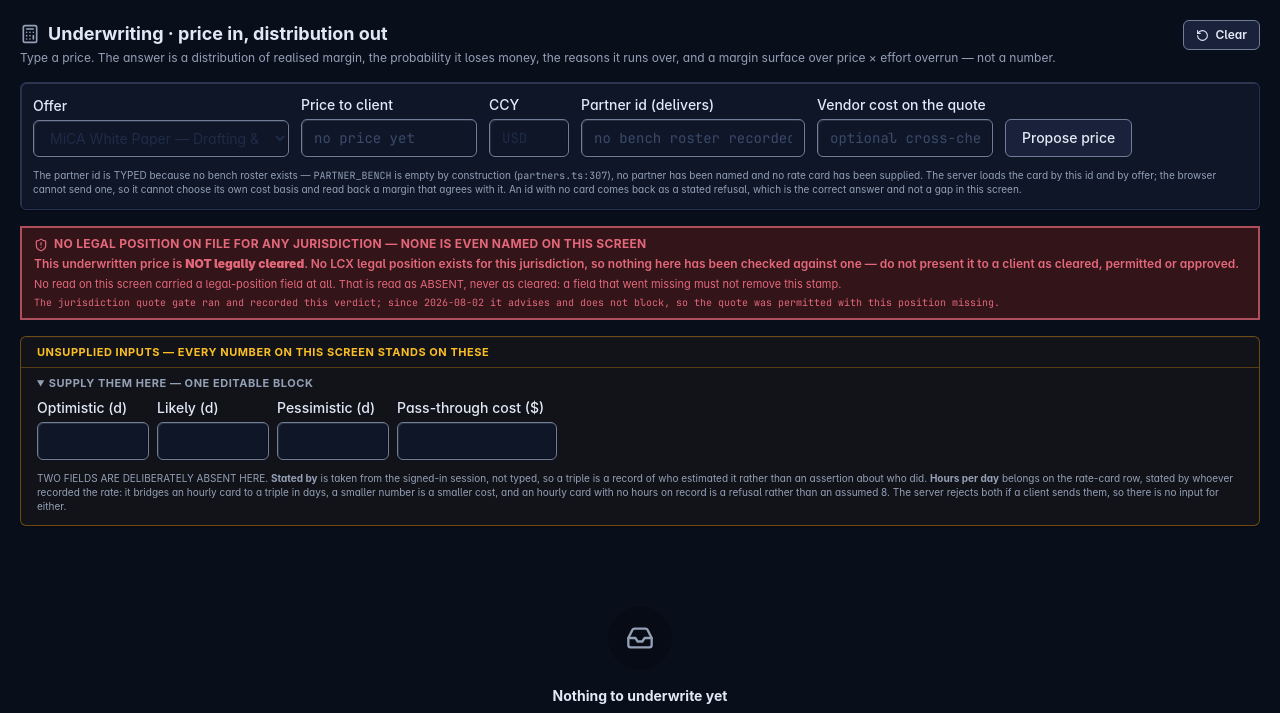
Test: the underwriting answer prints as an artefact › wraps the answer, dates it to two instants, and counts its own notices
In the field with test id "price-input": (389, 138) [301,119,477,157], type "10000"
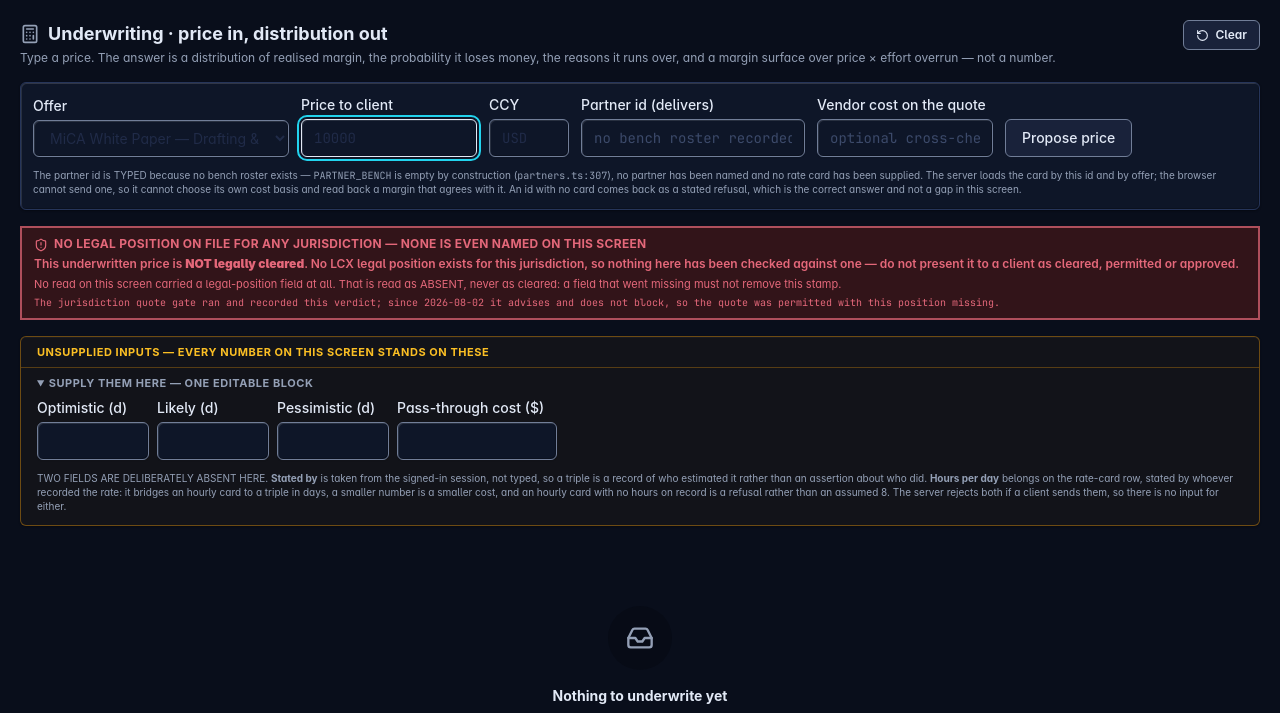
In the field with test id "partner-input": (693, 138) [581,119,805,157], type "partner-1"
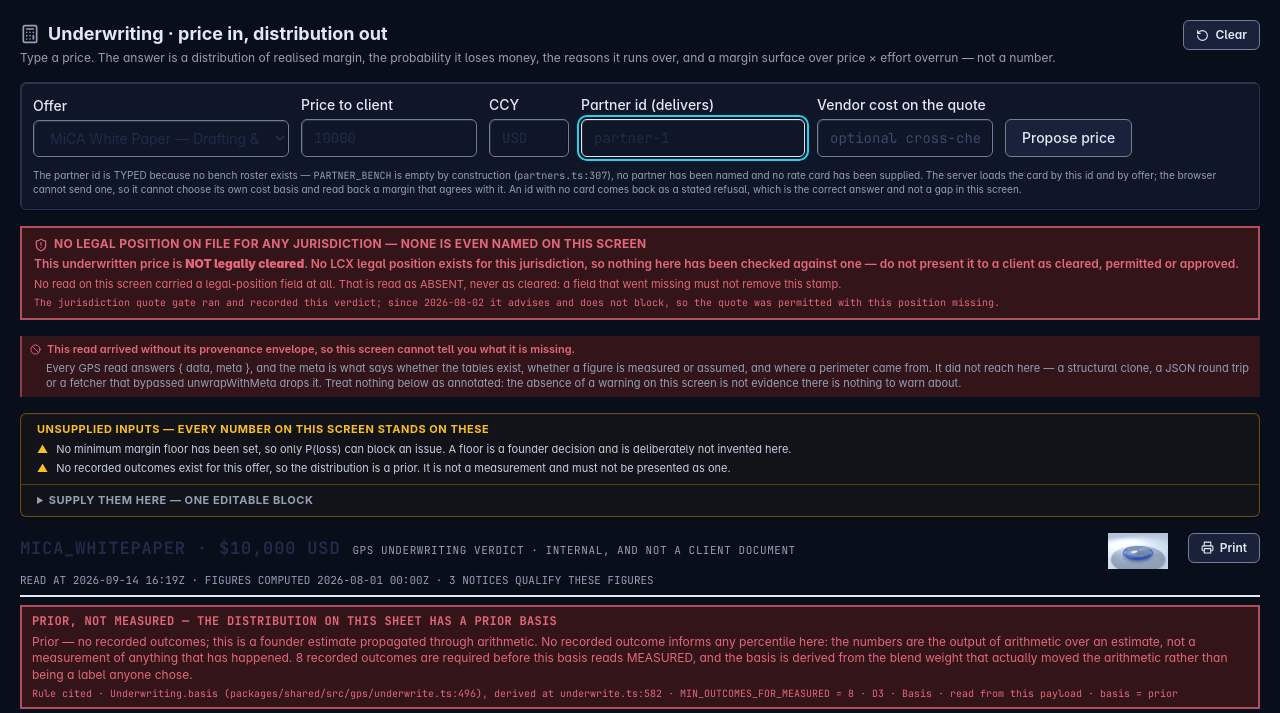
Check: the text with test id "gps-print-computed-at" shows "2026-08-01", box [317,573,429,587]
Check: the text with test id "gps-print-read-at" reads "READ AT 2026-09-14 16:19Z", box [20,573,185,587]
Check: the text with test id "gps-print-notice-count" reads "3 NOTICES QUALIFY THESE FIGURES", box [449,573,654,587]
